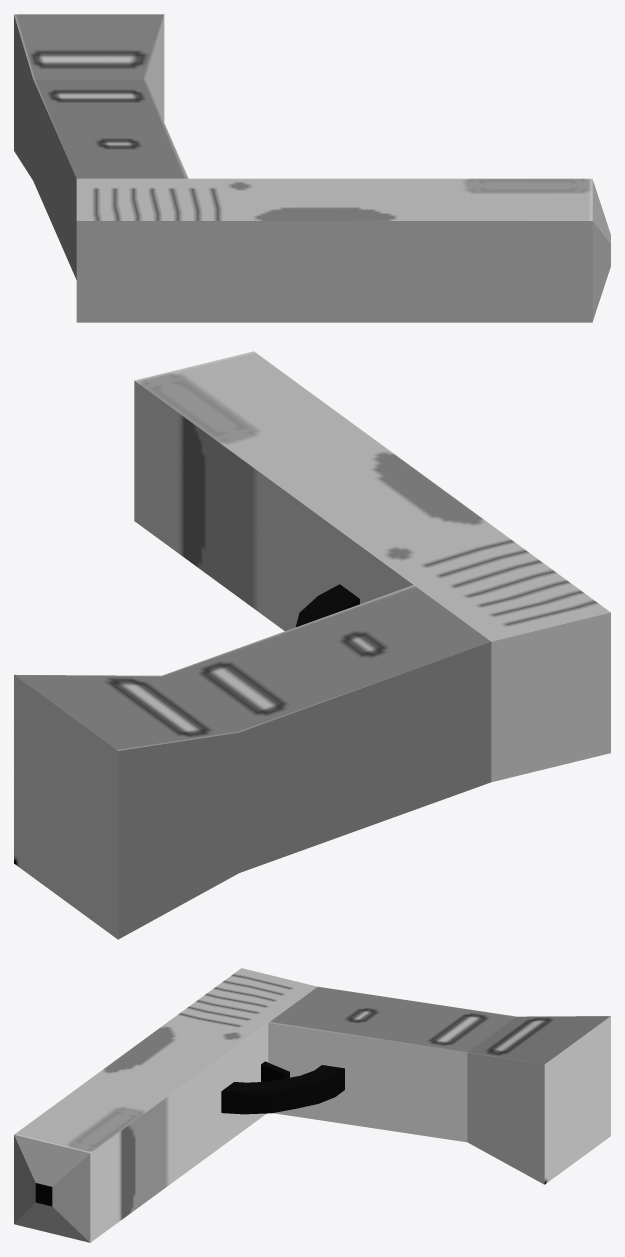
Rendered from gun.glb.
3 renders of one model, top to bottom at view 1: azimuth 30°, elevation 25°; view 2: azimuth 150°, elevation 25°; view 3: azimuth 270°, elevation 25°, orthographic. The views are drawn at different scales.
Visible parts, largest first — view 1: Cube; view 2: Cube, Cube.001; view 3: Cube, Cube.001, Cube.002.
Part boxes in pixels (bbox=[...]): Cube: bbox=[14, 14, 610, 322]; Cube: bbox=[14, 351, 610, 939]; Cube.001: bbox=[296, 584, 359, 627]; Cube: bbox=[14, 968, 610, 1242]; Cube.001: bbox=[221, 1065, 344, 1114]; Cube.002: bbox=[261, 1061, 289, 1081].
Bounding box in the file's own units: 0.4958 × 0.1502 × 0.6754.
Materials: 1 (1 with a texture image).
